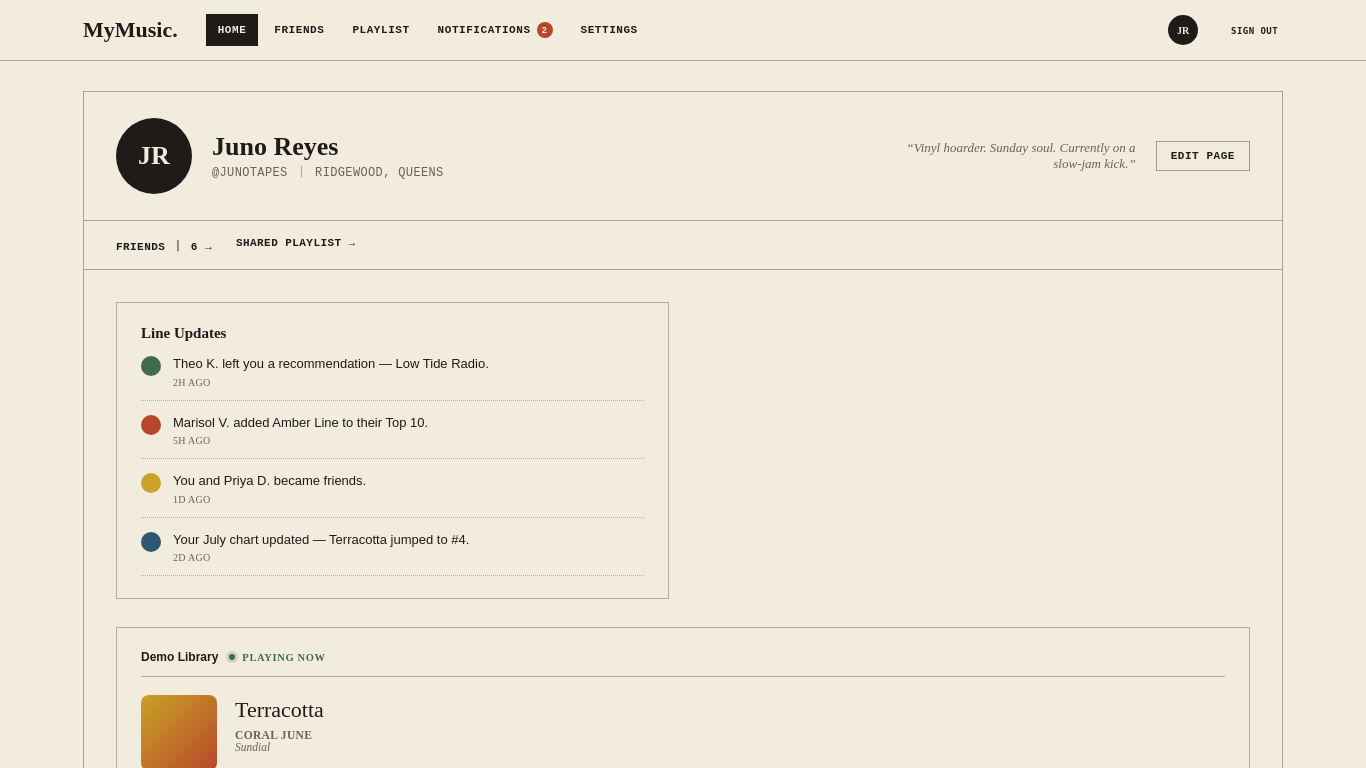
Test: keyboard operability › reorders a module with the arrow keys
This screenshot has width=1366, height=768.
Click the button "EDIT PAGE" at (1203, 156), box [1156,141,1250,171]
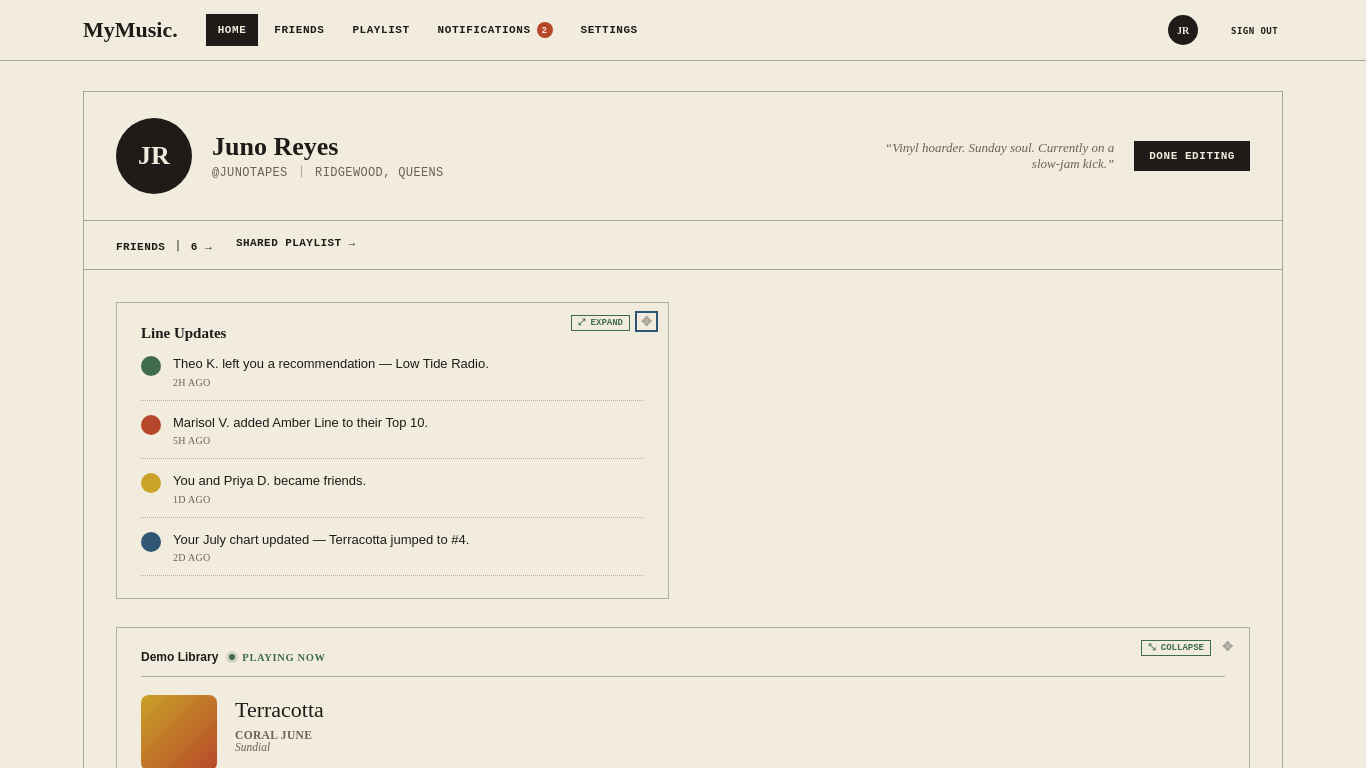
Press Arrowdown
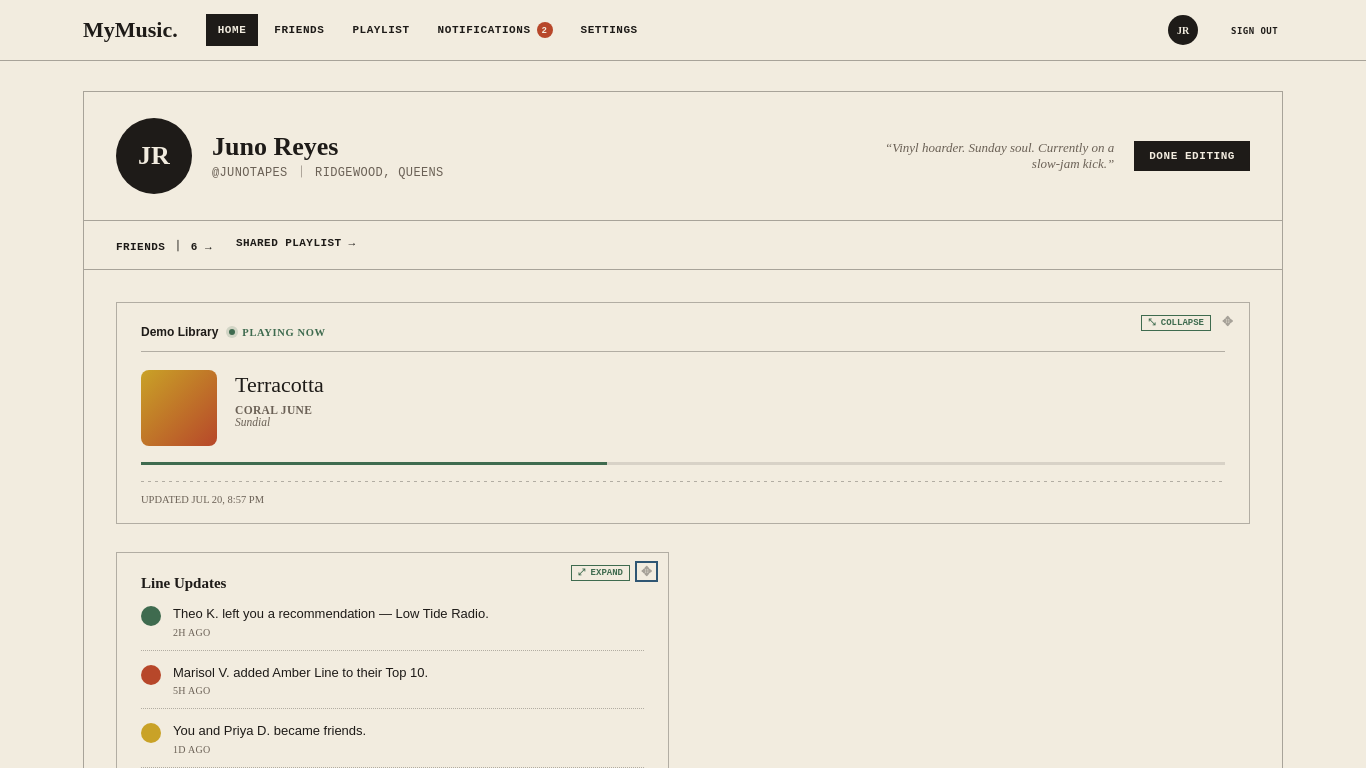
Check: the button named "Move Line Updates, position 2 of 7" is shown, box [639,565,654,578]
